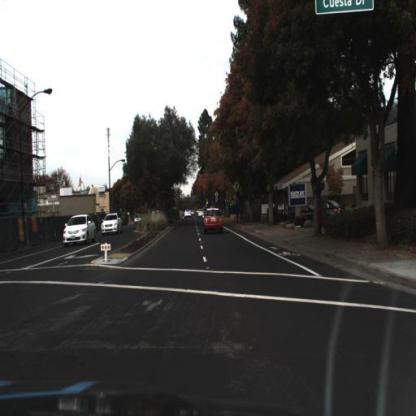car: (61, 212, 99, 248), (298, 198, 343, 226), (202, 206, 227, 238), (99, 211, 124, 239)
